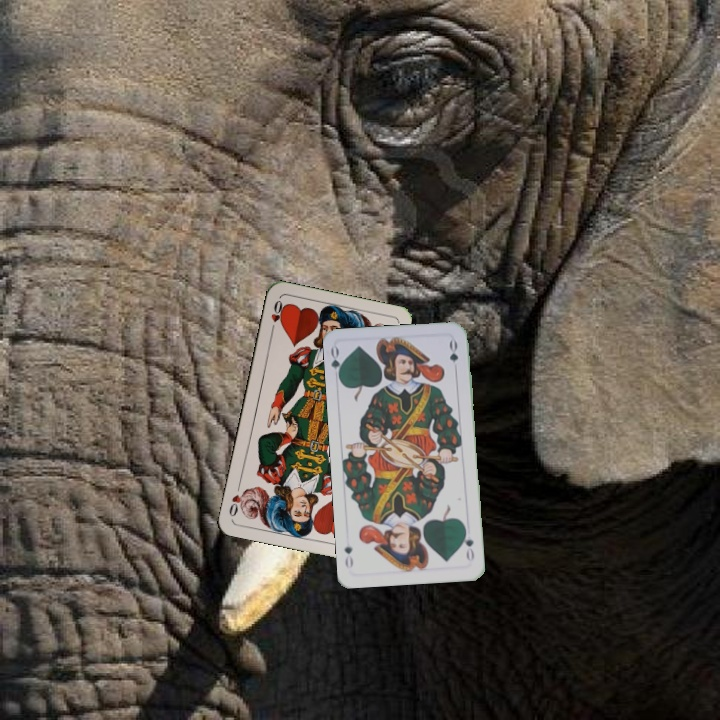GO: (327, 343, 347, 384), (459, 524, 477, 564)
HO: (267, 296, 287, 335)
